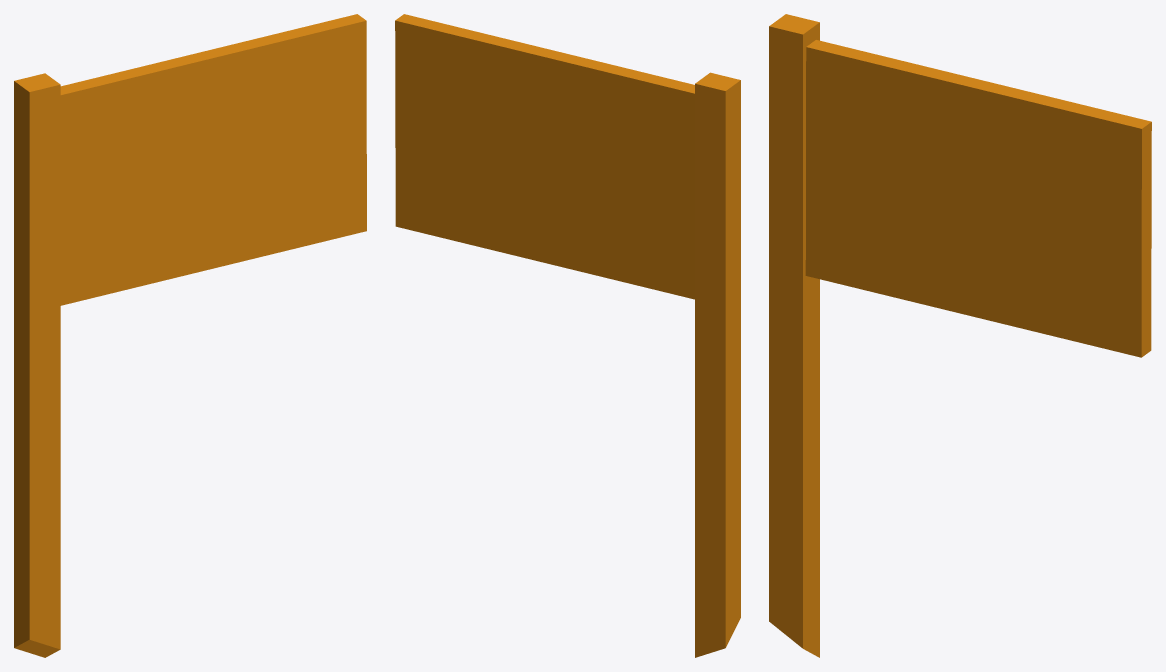
Rendered from positionIcon.glb.
3 renders of one model, left to right at view 1: azimuth 30°, elevation 25°; view 2: azimuth 150°, elevation 25°; view 3: azimuth 330°, elevation 25°, orthographic. The views are drawn at different scales.
Parts seen in each view (by area): view 1: 立方体; view 2: 立方体; view 3: 立方体.
Part boxes in pixels (bbox=[...]): 立方体: bbox=[14, 14, 366, 657]; 立方体: bbox=[395, 14, 740, 657]; 立方体: bbox=[769, 14, 1151, 657].
Bounding box in the file's own units: 1.82 × 2.99 × 0.1434.
